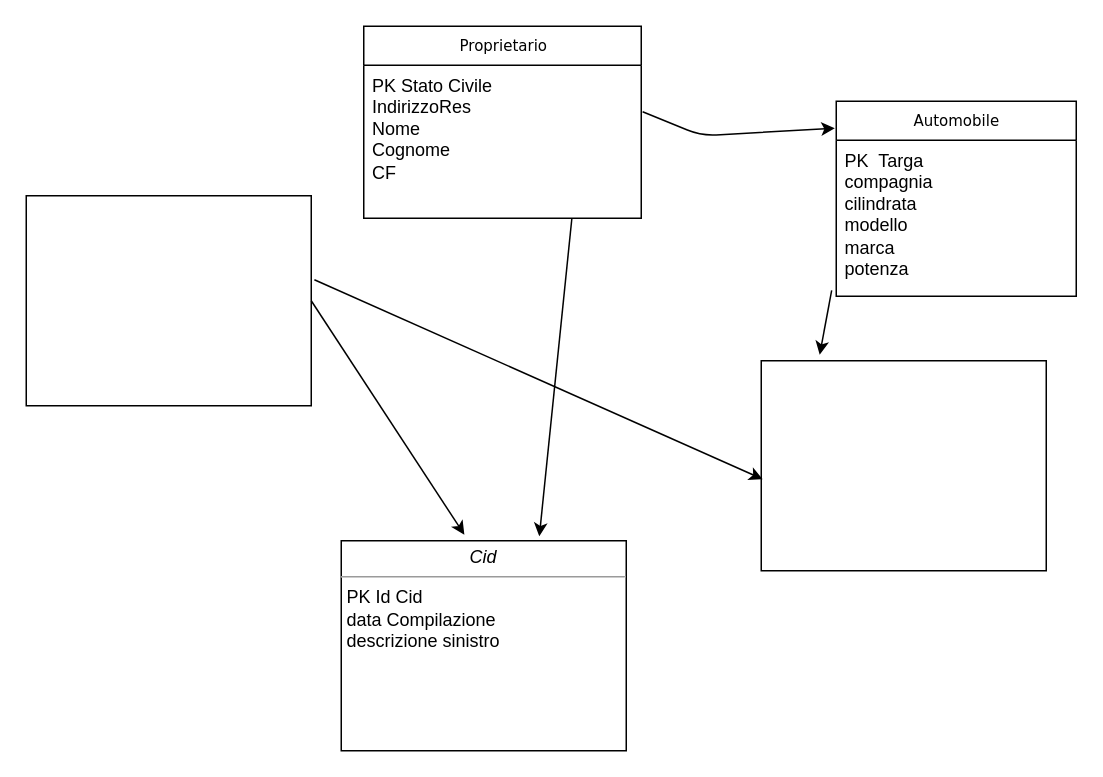
This 1103x777 diagram has some shape labels left out. The centre of each missing label's shape, as x and y in pixels:
"Danno PK Id danno descrizione danno risarcimento" goes at (x=903, y=465).
"Sinistro PK Id sinistro data localita strada" goes at (x=168, y=300).
